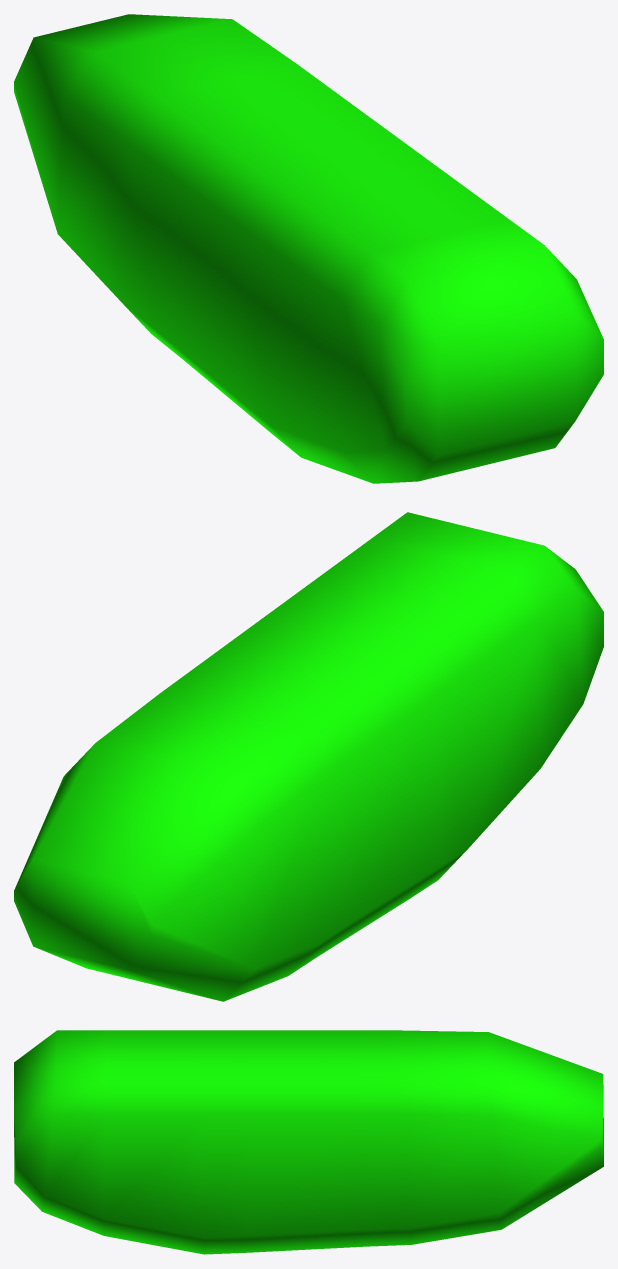
The model's file is flagman_ship_1_collider.fbx.
The picture shows the model from 3 angles, top to bottom: view 1: azimuth 30°, elevation 25°; view 2: azimuth 150°, elevation 25°; view 3: azimuth 270°, elevation 25°; orthographic projection. The views are drawn at different scales.
Parts seen in each view (by area): view 1: flagman_ship_1_collider.001; view 2: flagman_ship_1_collider.001; view 3: flagman_ship_1_collider.001.
Boxes of the visible parts, box(x1,y1,x2,y2) form: flagman_ship_1_collider.001: box(14, 14, 603, 483); flagman_ship_1_collider.001: box(14, 512, 603, 1001); flagman_ship_1_collider.001: box(14, 1030, 603, 1254).
Size of the model in its own units: 530 by 659 by 1981.
